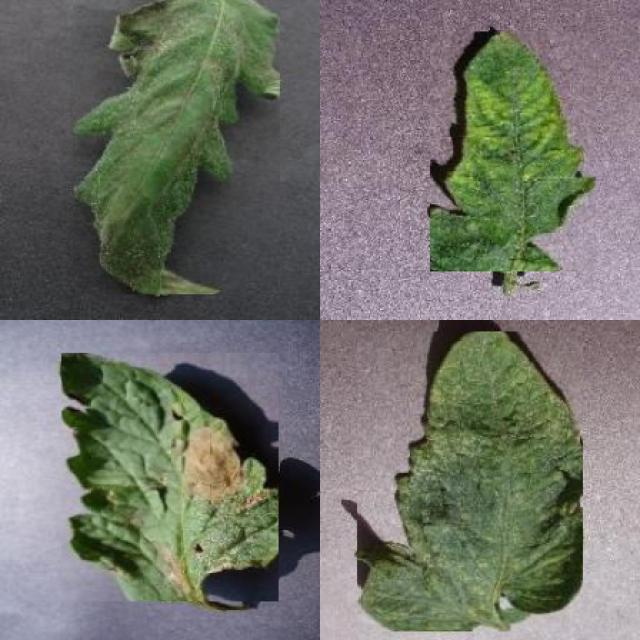Late Blight: (73, 0, 280, 294), (62, 354, 278, 602)
Mosaic Virus: (430, 32, 596, 271)
Spider Mites: (357, 332, 583, 632)
